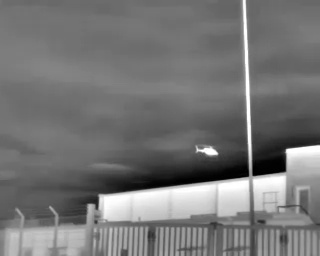HELICOPTER: (191, 139, 224, 163)
